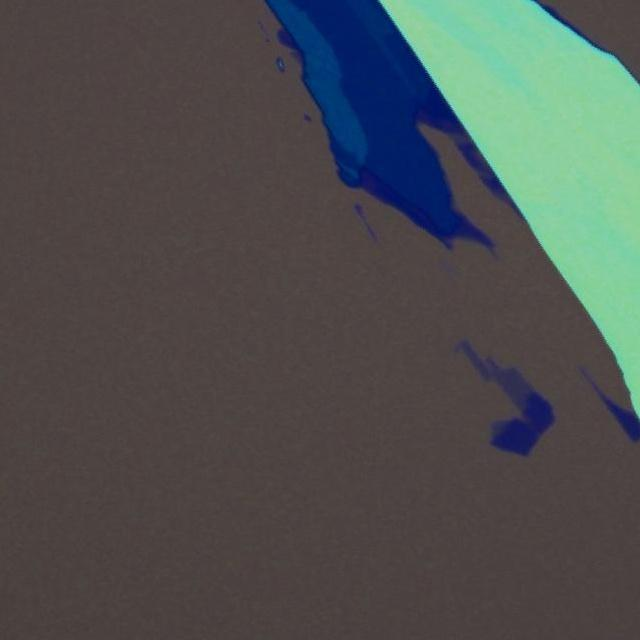monolayer-eWW4: (458, 340, 530, 408)
